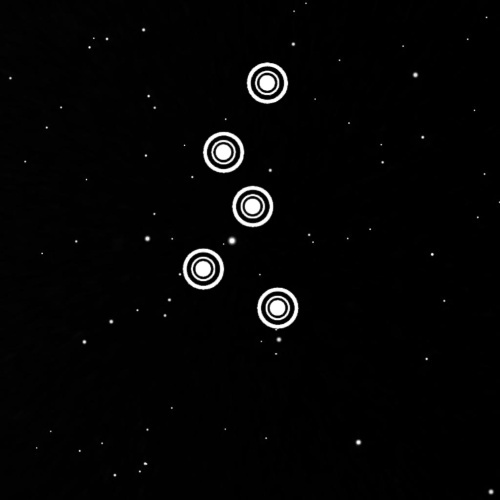cassiopeia: (156, 45, 323, 353)
